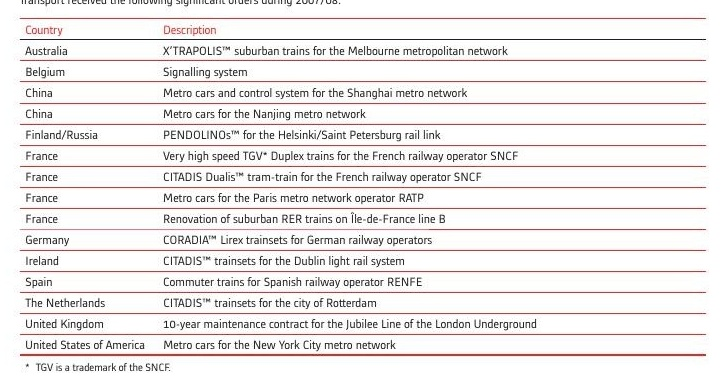table: (0, 0, 725, 387)
